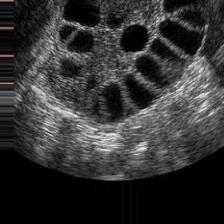pcos: (18, 0, 219, 128)
